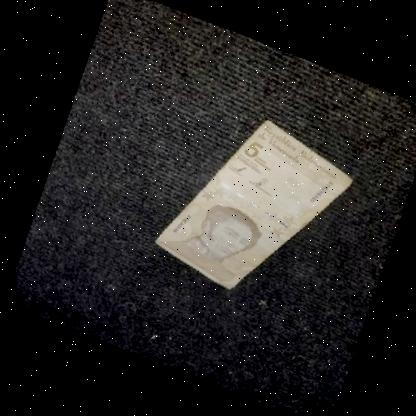five-front-vef: (139, 104, 363, 306)
